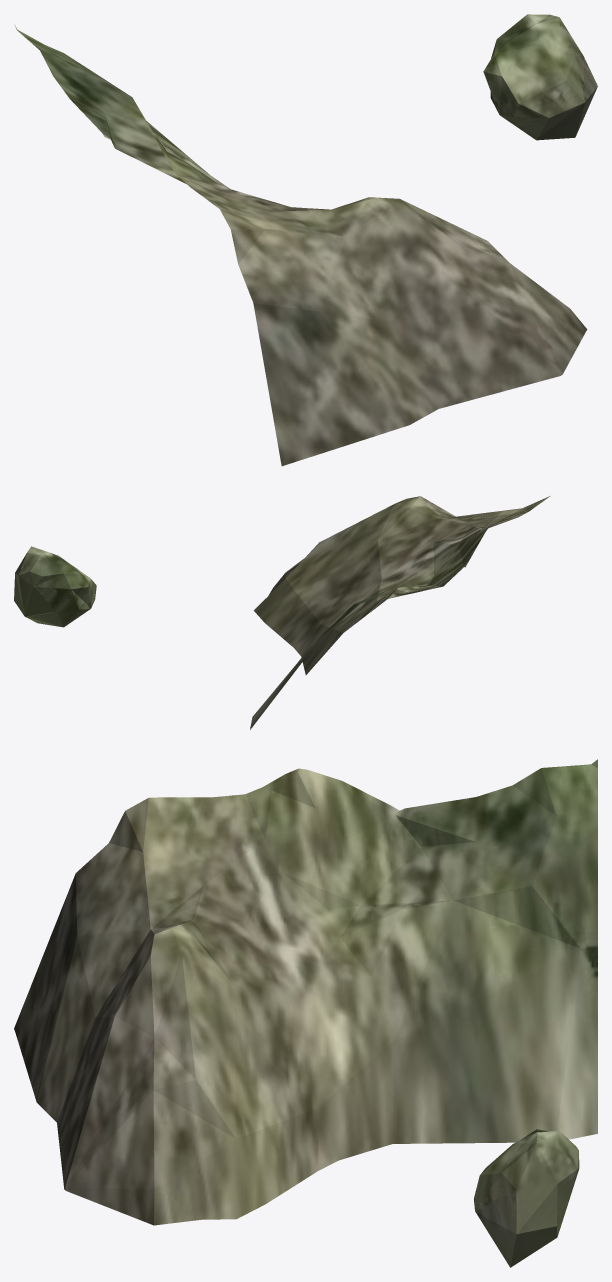
The picture shows the model from 3 angles, top to bottom: view 1: azimuth 30°, elevation 25°; view 2: azimuth 150°, elevation 25°; view 3: azimuth 270°, elevation 25°; orthographic projection. The views are drawn at different scales.
Bounding box in the file's own units: 2.59 × 1.12 × 2.2.
Materials: 1 (1 with a texture image).
